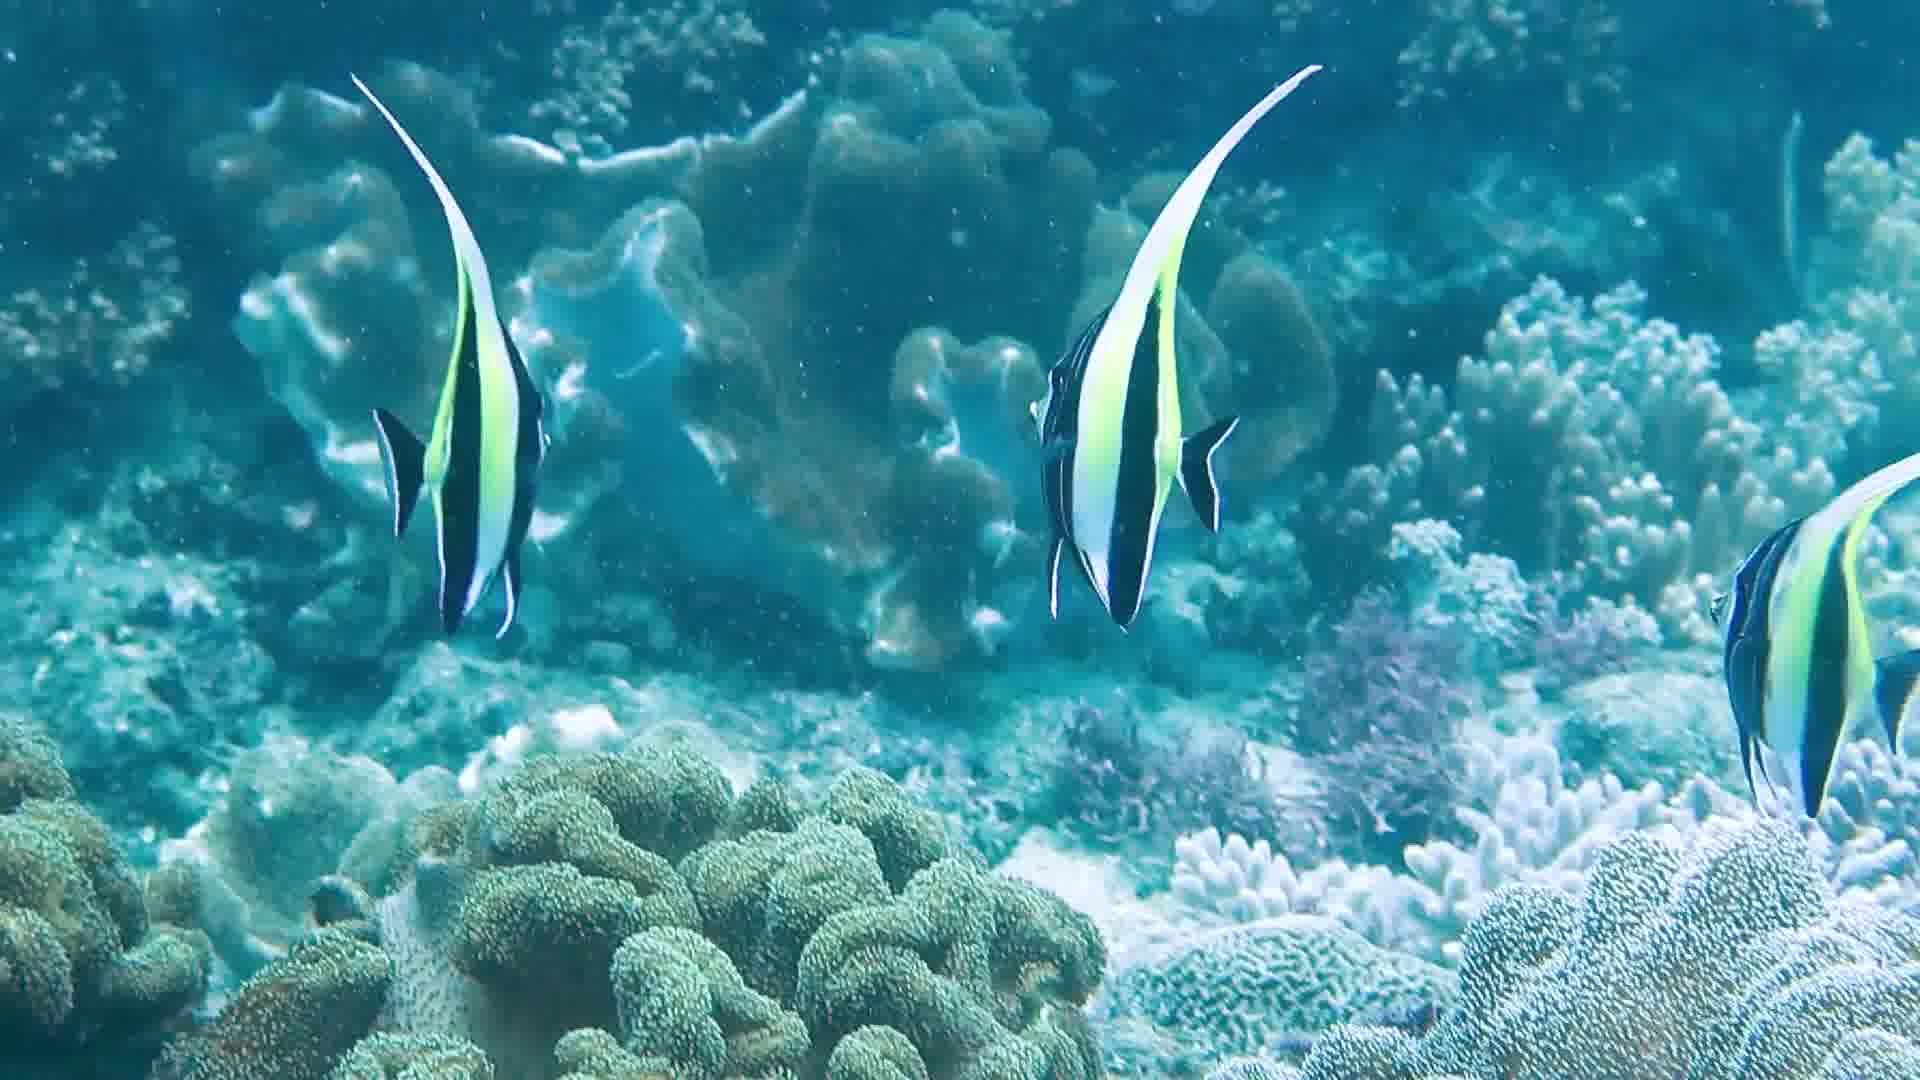Zanclus cornutus: (1019, 219, 1257, 667), (349, 256, 596, 659), (1675, 454, 1919, 820)
